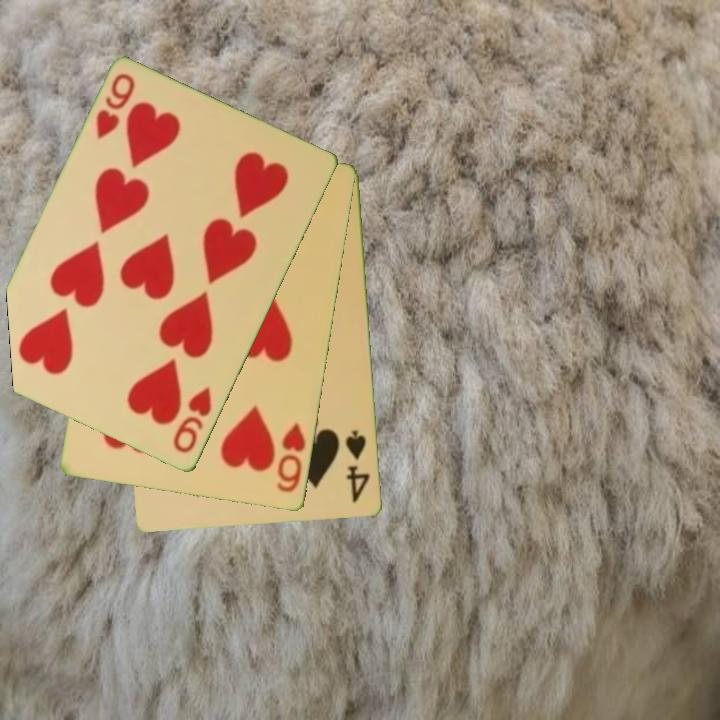4s: (342, 427, 373, 506)
6h: (273, 419, 309, 496)
9h: (169, 383, 215, 457), (92, 70, 138, 143)
